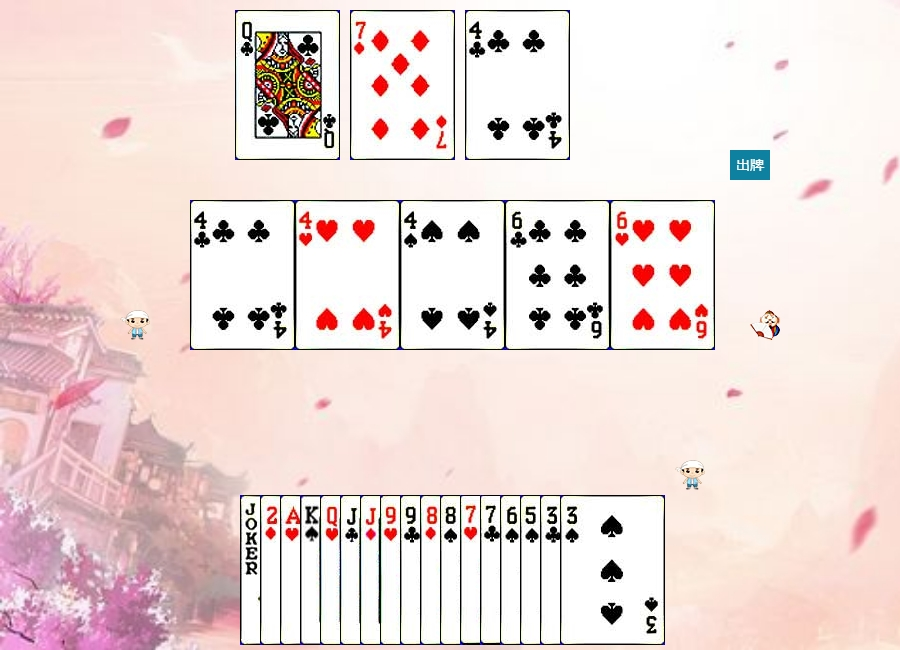11~1: (360, 495, 465, 645)
11~2: (340, 495, 445, 645)
12~2: (235, 10, 340, 160)
12~3: (320, 495, 425, 645)
13~4: (300, 495, 405, 645)
14~3: (280, 495, 385, 645)
15~1: (260, 495, 365, 645)
17~3: (240, 495, 345, 645)
3~2: (540, 495, 645, 645)
3~4: (560, 495, 665, 645)
4~2: (465, 10, 570, 160), (190, 200, 295, 350)
4~3: (295, 200, 400, 350)
4~4: (400, 200, 505, 350)
5~4: (520, 495, 625, 645)
6~2: (505, 200, 610, 350)
6~3: (610, 200, 715, 350)
6~4: (500, 495, 605, 645)
7~1: (350, 10, 455, 160)
7~2: (480, 495, 585, 645)
7~3: (460, 495, 565, 645)
8~1: (420, 495, 525, 645)
8~4: (440, 495, 545, 645)
9~2: (400, 495, 505, 645)
9~3: (380, 495, 485, 645)
